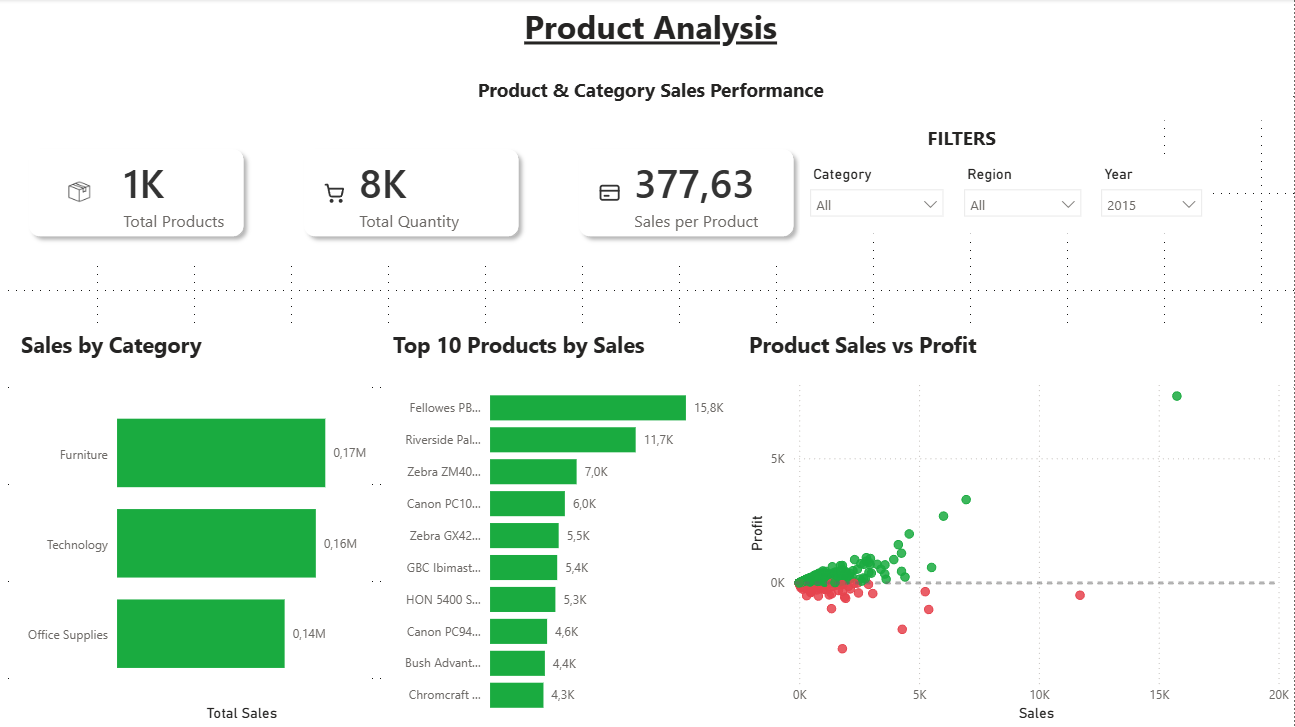

The dashboard page shown, as its layout file describes it:
{"tool":"powerbi","page":{"name":"Product Analysis","canvas":[1280,720],"ordinal":3},"visuals":[{"type":"textbox","box":[8,0,1272,72],"z":0},{"type":"textbox","box":[8,72,1272,48],"z":1000},{"type":"cardVisual","fields":{"Data":["Date.Sales per Product"]},"box":[544,120,270,144],"z":2000},{"type":"cardVisual","fields":{"Data":["Date.Total Products"]},"box":[0,120,270,144],"z":3000},{"type":"cardVisual","fields":{"Data":["Date.Total Quantity"]},"box":[272,120,270,144],"z":4000},{"type":"clusteredBarChart","title":"Sales by Category","fields":{"Category":["Orders.Category"],"Y":["Date.Total Sales"]},"box":[16,328,352,392],"z":5000},{"type":"clusteredBarChart","title":"Top 10 Products by Sales","fields":{"Category":["Orders.Product Name"],"Y":["Date.Total Sales"]},"box":[384,328,352,392],"z":6000},{"type":"scatterChart","title":"Product Sales vs Profit","fields":{"Category":["Orders.Product Name"],"X":["Date.Total Sales"],"Y":["Date.Total Profit"]},"box":[736,328,544,392],"z":7000},{"type":"slicer","fields":{"Values":["Orders.Category"]},"box":[792,160,152,72],"z":8000},{"type":"slicer","fields":{"Values":["Orders.Region"]},"box":[944,160,136,72],"z":9000},{"type":"slicer","fields":{"Values":["Date.Year"]},"box":[1080,160,120,72],"z":10000},{"type":"textbox","box":[792,120,320,40],"z":11000}]}

Visuals, with their boxes in screenshot pixels (x1, y1, x2, y2), scaled from the page's 1280x720 canvas onto the 1295x727 screenshot:
textbox: (8,0,1294,73)
textbox: (8,73,1294,121)
cardVisual - Date.Sales per Product: (550,121,824,267)
cardVisual - Date.Total Products: (0,121,273,267)
cardVisual - Date.Total Quantity: (275,121,548,267)
"Sales by Category" clusteredBarChart: (16,331,372,726)
"Top 10 Products by Sales" clusteredBarChart: (388,331,745,726)
"Product Sales vs Profit" scatterChart: (745,331,1294,726)
slicer - Orders.Category: (801,162,955,234)
slicer - Orders.Region: (955,162,1093,234)
slicer - Date.Year: (1093,162,1214,234)
textbox: (801,121,1125,162)
